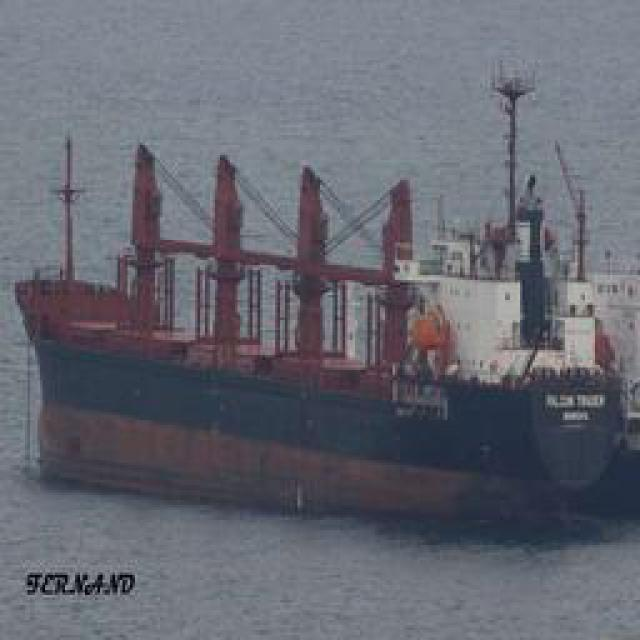Ship: (12, 122, 630, 515)
